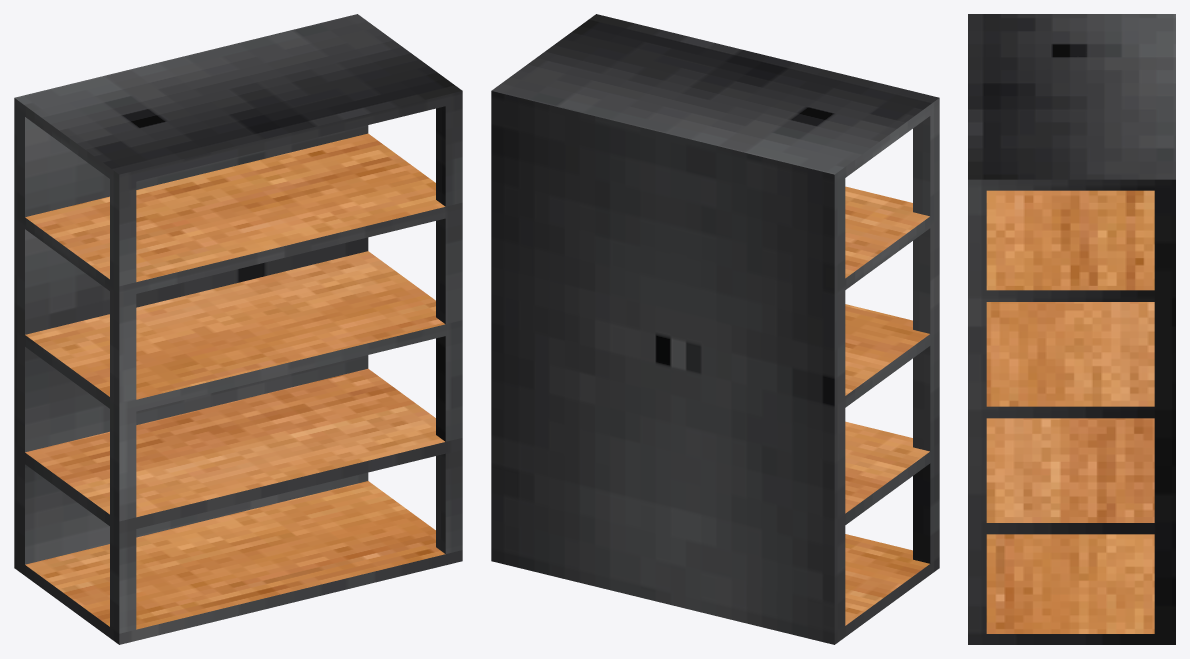
File: Estantería.fbx
3 renders of one model, left to right at view 1: azimuth 30°, elevation 25°; view 2: azimuth 150°, elevation 25°; view 3: azimuth 270°, elevation 25°, orthographic.
Parts seen in each view (by area): view 1: Estanteria; view 2: Estanteria; view 3: Estanteria.
Boxes of the visible parts, left/top/right/bottom form: Estanteria: left=14, top=14, right=462, bottom=644; Estanteria: left=491, top=14, right=939, bottom=644; Estanteria: left=968, top=14, right=1175, bottom=644.
Bounding box in the file's own units: 198 × 260 × 105.
Materials: 1 (1 with a texture image).
